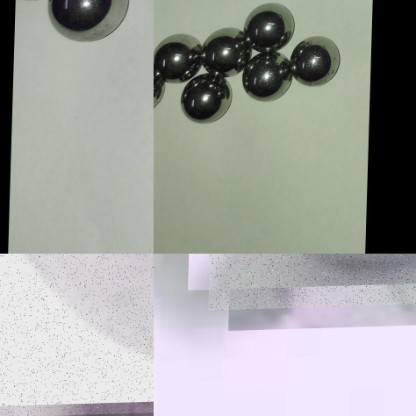ironball: (0, 253, 153, 415), (209, 253, 415, 311), (45, 0, 134, 46), (239, 1, 299, 53), (177, 70, 232, 126), (154, 27, 209, 83), (239, 51, 292, 103), (197, 24, 250, 75), (291, 35, 341, 88), (152, 63, 163, 106)
